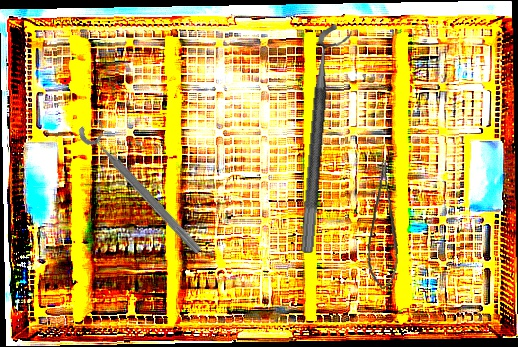Fixation Ring: (74, 113, 213, 259), (299, 22, 353, 256)
Micro Scissor: (362, 159, 411, 291)
